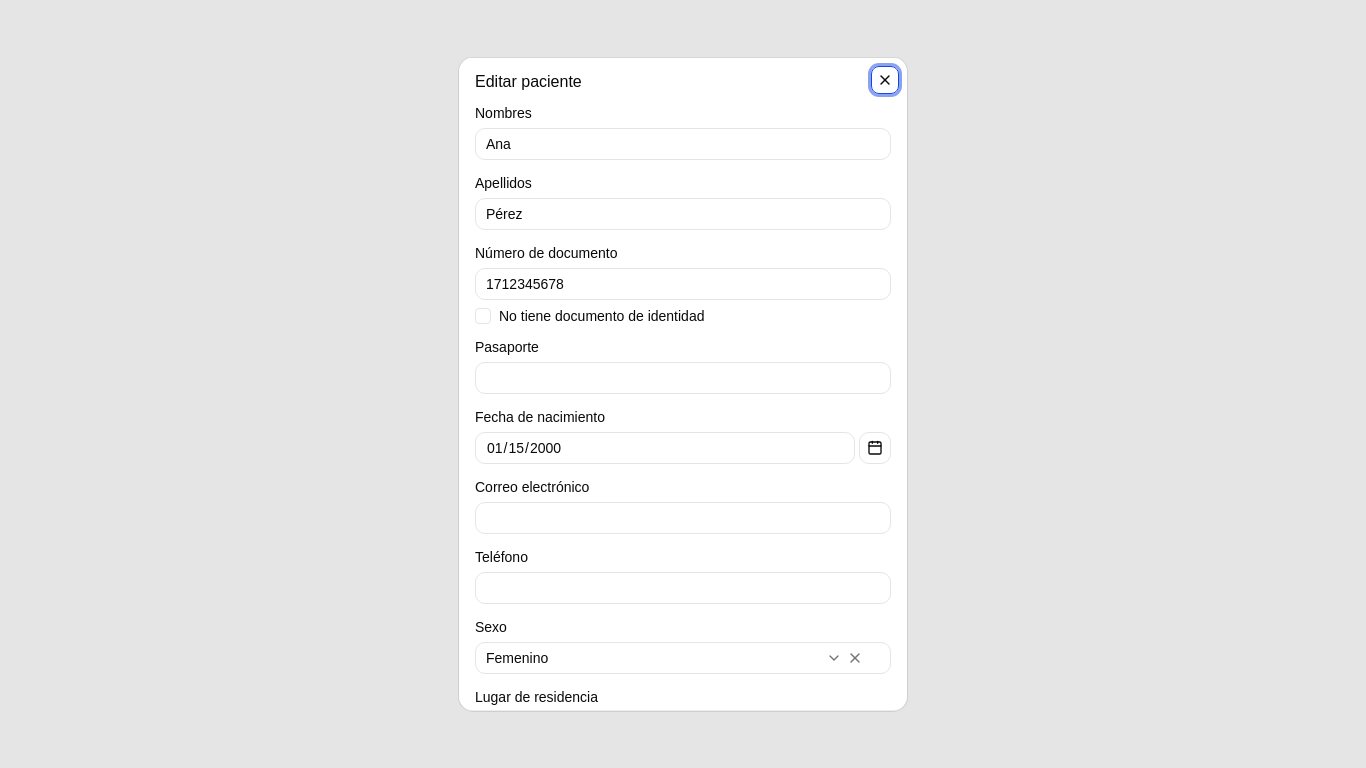
Test case: PatientFormDialog — el bloqueo de embarazo del paso 13, sexo y fecha de nacimiento (SPEC FE12d §4 paso 13, §8) › una fecha de nacimiento que deja la edad fuera de 15–49 bloquea igual que el sexo
A los 5 años el 2026-01-15 (SPEC FE12d §4 paso 13, verificación): muy fuera de 15–49.
In the date field labelled "Fecha de nacimiento": point(665, 448) left=475, top=432, right=855, bottom=464, type "2021-01-15"
(page scrolled)
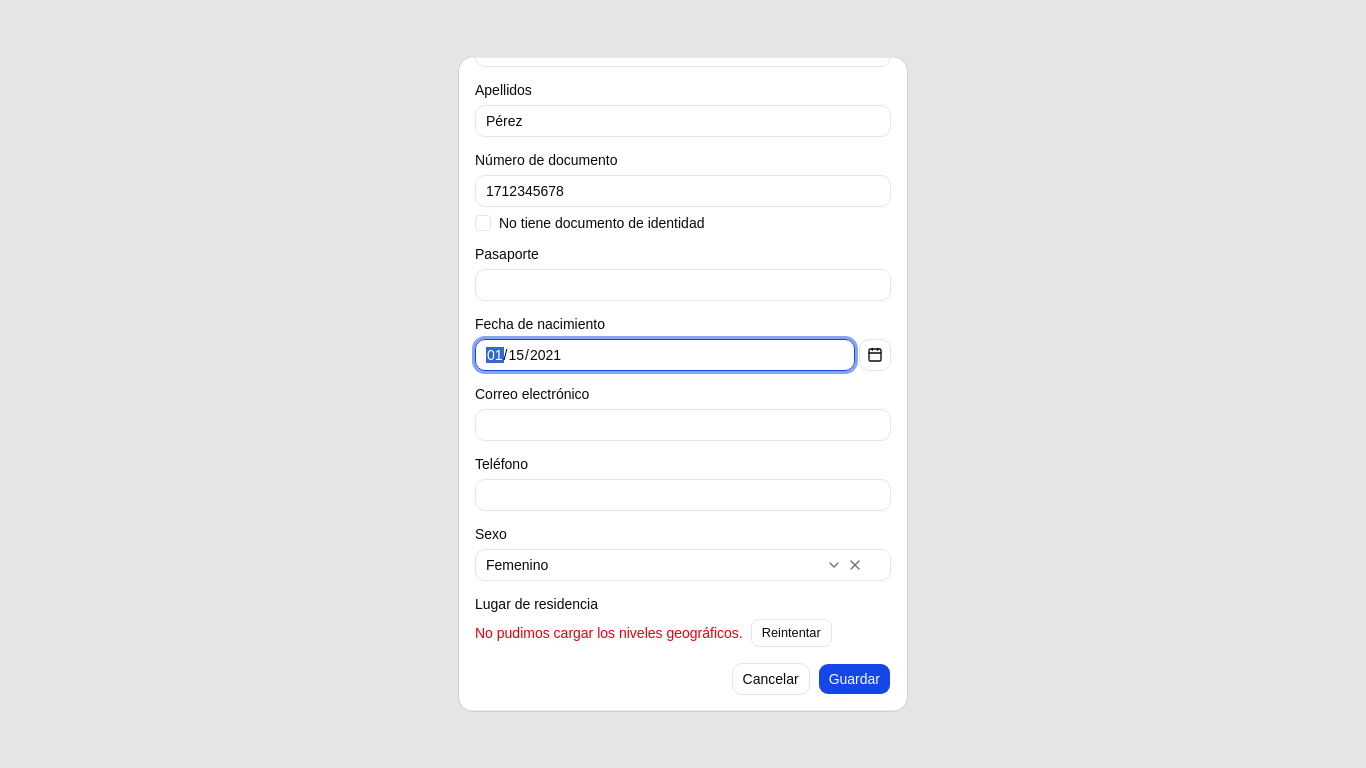
Expected: the button "Guardar" is enabled
Click the button "Guardar": point(854, 679) left=818, top=663, right=891, bottom=695
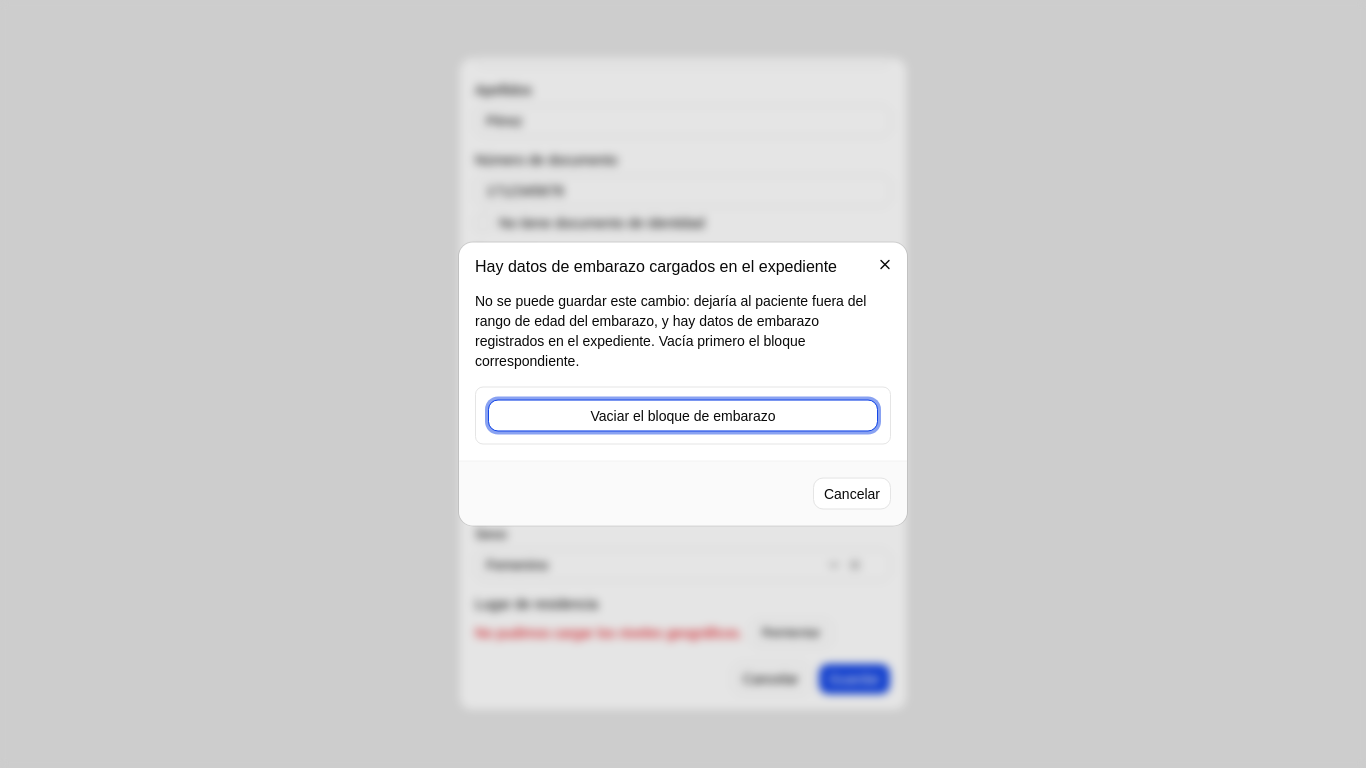
Expected: the text "dejaría al paciente fuera del rango de edad del embarazo" is shown, left=475, top=292, right=866, bottom=368
